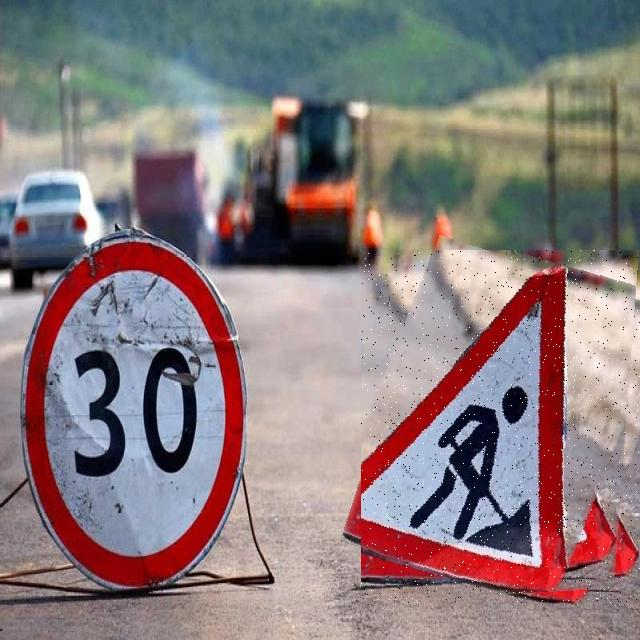roadwork: (361, 250, 640, 603)
